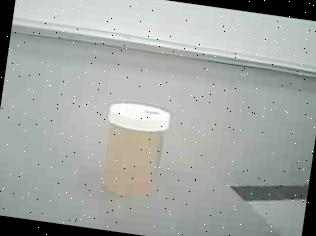Bottle B: (92, 95, 179, 206)
